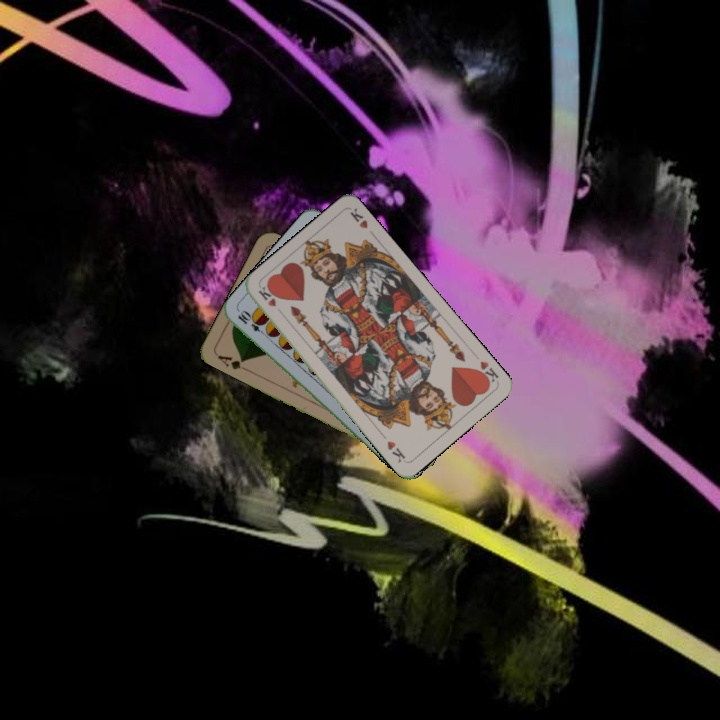E10: (234, 307, 270, 339)
GA: (213, 351, 251, 374)
HK: (472, 357, 501, 388), (254, 282, 279, 309)
